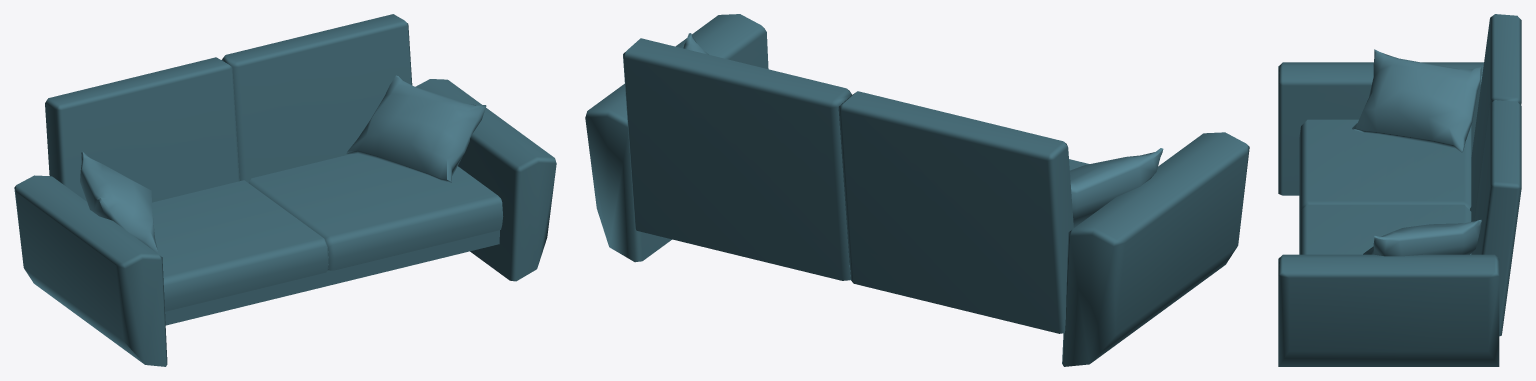
The model's file is Sofa.obj.
3 renders of one model, left to right at view 1: azimuth 30°, elevation 25°; view 2: azimuth 150°, elevation 25°; view 3: azimuth 270°, elevation 25°, orthographic. The views are drawn at different scales.
Parts seen in each view (by area): view 1: sofa_001; view 2: sofa_001; view 3: sofa_001.
Part boxes in pixels (<box>): sofa_001: <box>14,14,556,366</box>; sofa_001: <box>585,14,1249,366</box>; sofa_001: <box>1278,14,1521,366</box>.
Size of the model in its own units: 9.91 by 3.92 by 4.78.
1 material, 1 textured.
